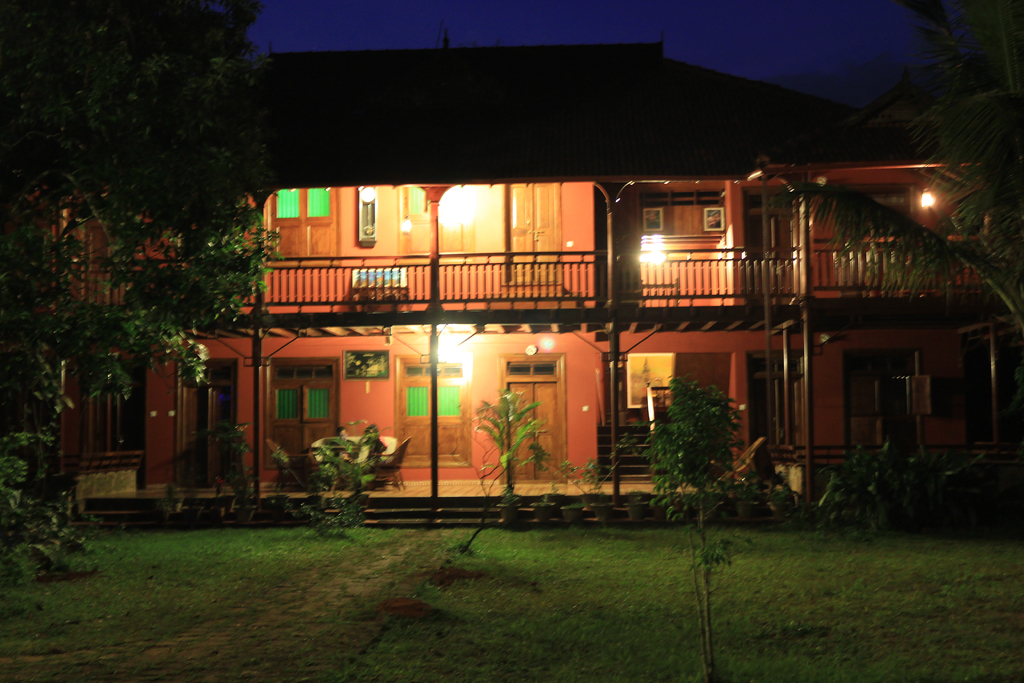Tree: (0, 0, 284, 577), (772, 0, 1024, 446)
